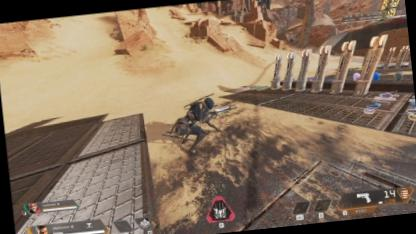Target: (167, 95, 224, 158)
